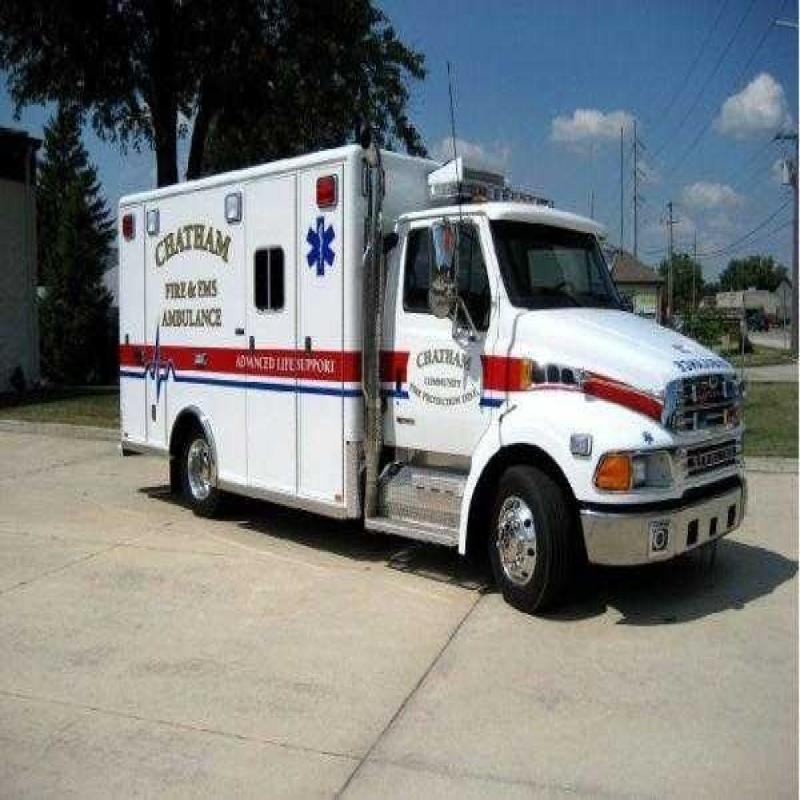AmbulanceSiren: (217, 169, 260, 233), (313, 162, 353, 224)
